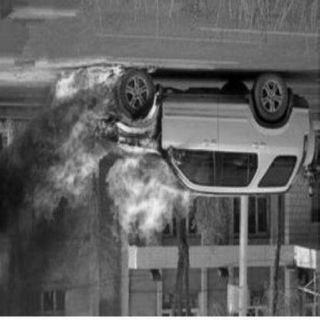Fire: (28, 65, 156, 211), (108, 154, 196, 253)
